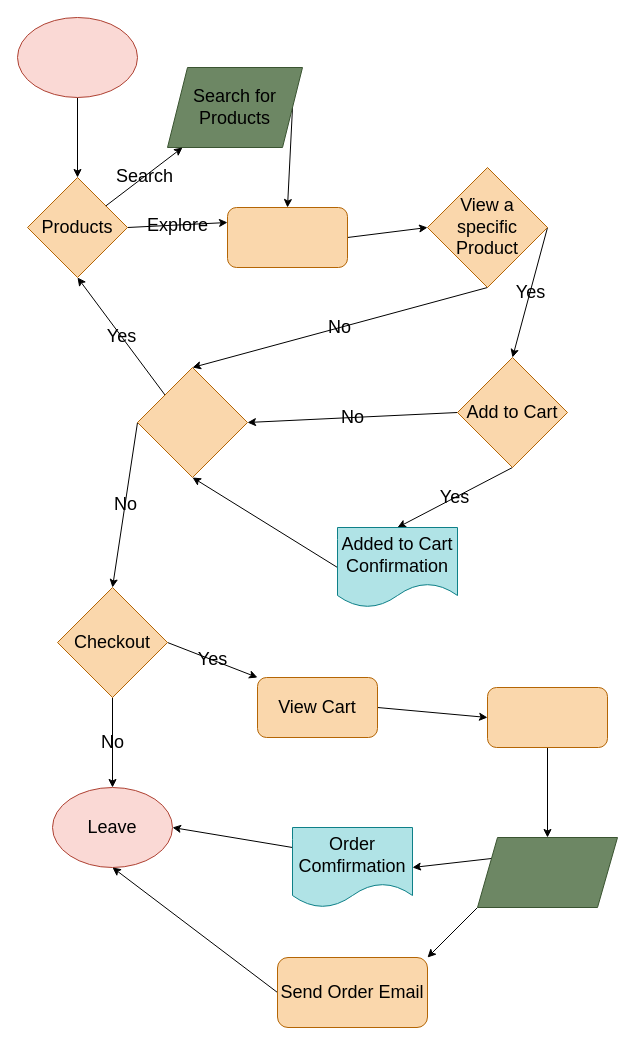
The diagram is 635 pixels wide and 1045 high, and some of its shapes have lost their labels. The shapes that lost their labels are listed below. From the top down, each one's centre as x and y in pixels, then its label:
[77,57]: Enter
[287,237]: Look over Products
[192,422]: Countinue Shopping
[547,717]: View Payment
[547,872]: Payment Information
